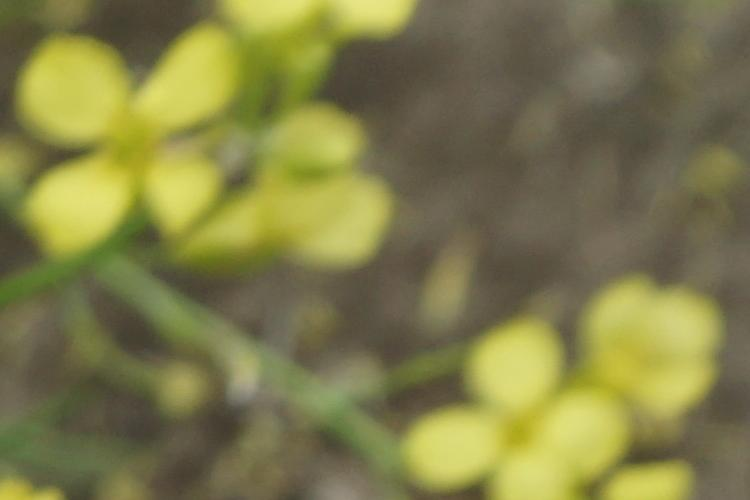yellow: (27, 50, 230, 245), (418, 319, 630, 499), (192, 106, 403, 279), (576, 268, 722, 421)
